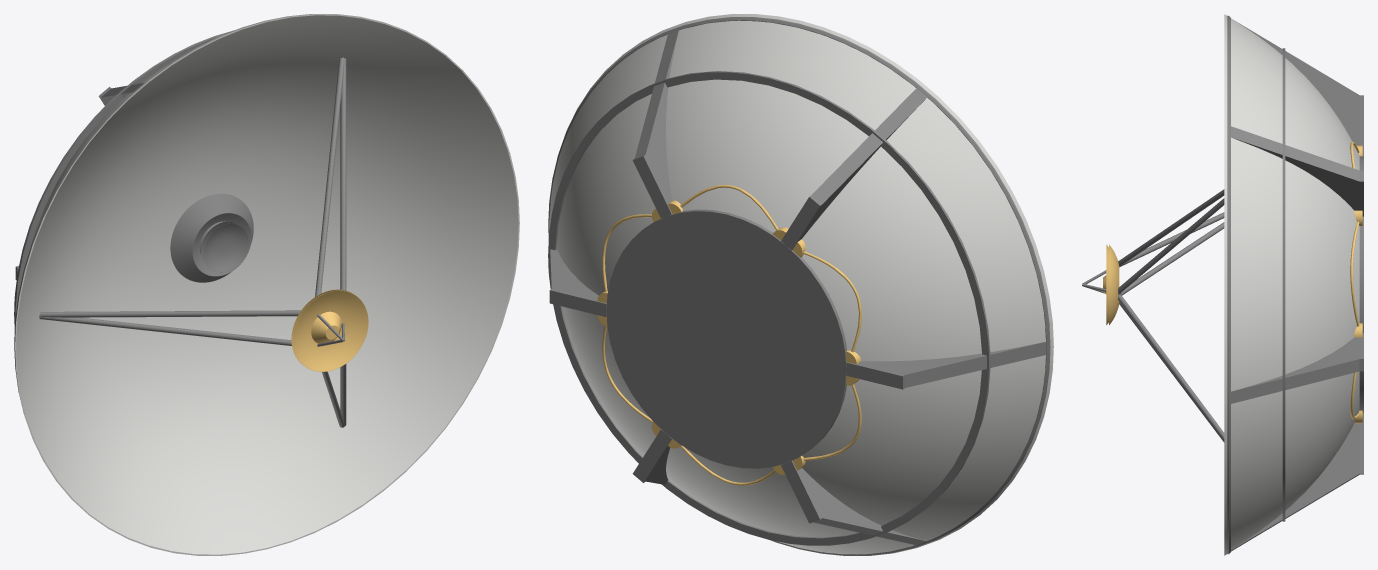
The model's file is CassiniAntenna.fbx.
3 views of the same model, side by side, from view 1: azimuth 30°, elevation 25°; view 2: azimuth 150°, elevation 25°; view 3: azimuth 270°, elevation 25° (orthographic). The views are drawn at different scales.
Parts seen in each view (by area): view 1: Body8, Body10, Body21, Body26, Body20; view 2: Body8, Body20, Body27; view 3: Body8, Body20, Body10, Body27, Body26.
Part boxes in pixels (x1,y1,x2,y2): Body8: (15,14,519,555); Body10: (39,57,346,427); Body21: (170,193,253,282); Body26: (291,289,368,371); Body20: (14,14,311,413); Body8: (549,14,1053,555); Body20: (548,17,1050,555); Body27: (597,185,861,485); Body8: (1224,14,1359,555); Body20: (1227,15,1363,554); Body10: (1082,189,1224,442); Body27: (1350,141,1362,423); Body26: (1103,244,1119,324).
Bounding box in the file's own units: 4 × 4 × 2.08.
